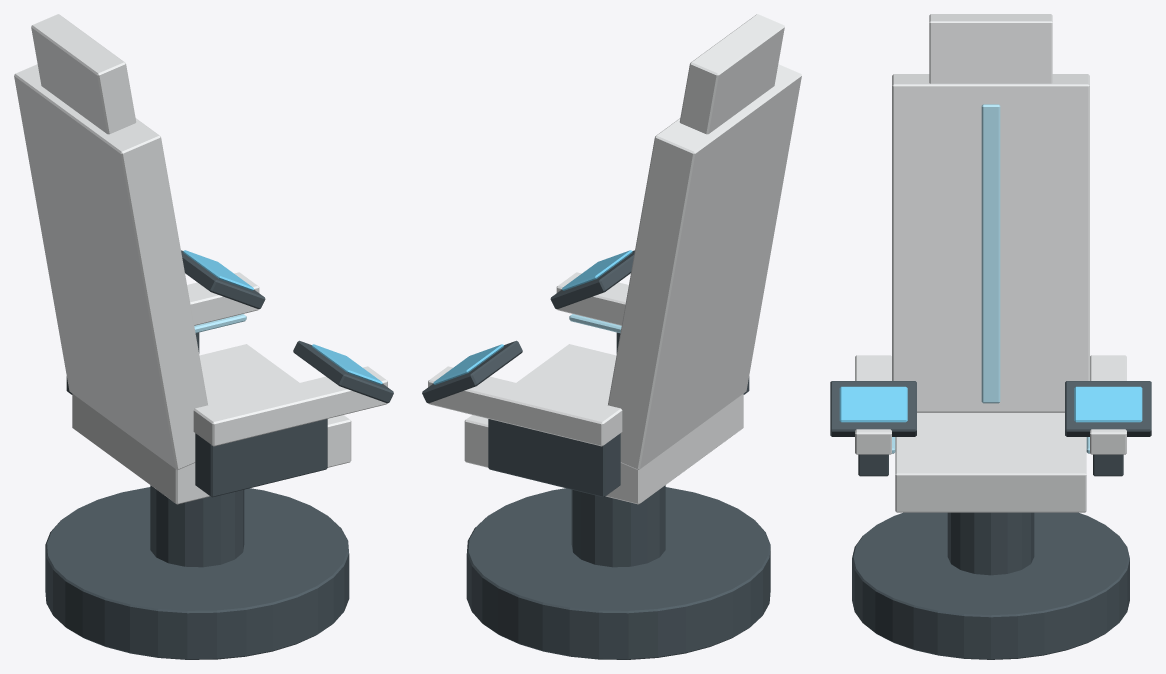
Rendered from SM_CaptainsChair.fbx.
3 renders of one model, left to right at view 1: azimuth 30°, elevation 25°; view 2: azimuth 150°, elevation 25°; view 3: azimuth 270°, elevation 25°, orthographic. The views are drawn at different scales.
Visible parts, largest first — view 1: SM_CaptainsChair; view 2: SM_CaptainsChair; view 3: SM_CaptainsChair.
Part boxes in pixels (x1=…): SM_CaptainsChair: x1=14, y1=14, x2=393, y2=659; SM_CaptainsChair: x1=422, y1=14, x2=801, y2=659; SM_CaptainsChair: x1=830, y1=14, x2=1151, y2=659.
Size of the model in its own units: 90.44 by 191 by 104.
